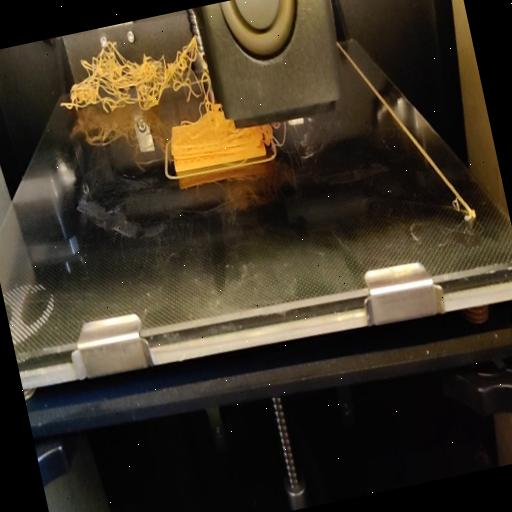spaghetti: (46, 26, 214, 123), (180, 88, 230, 140)
